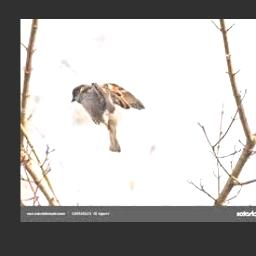Sparrow: (71, 82, 146, 152)
